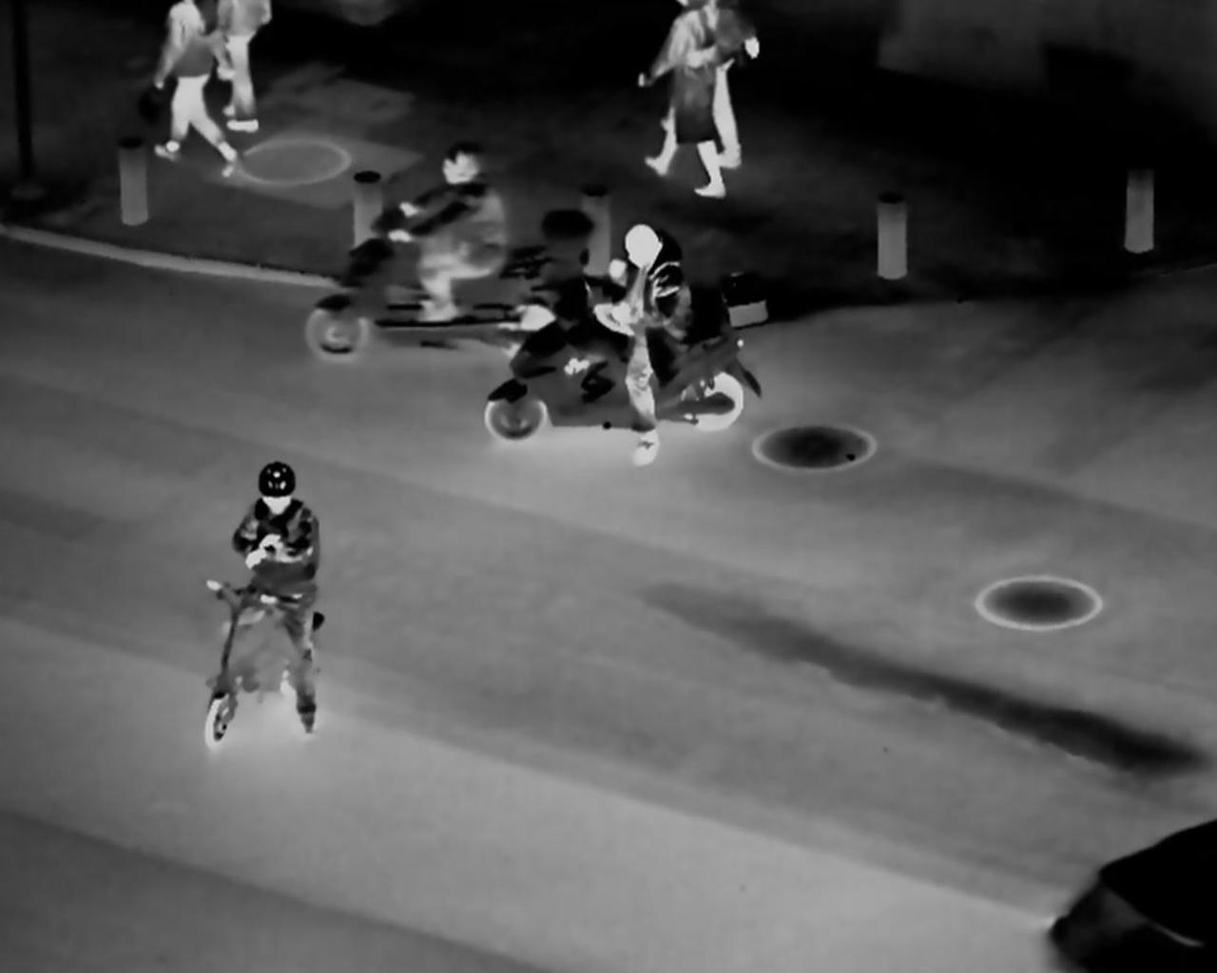person: (215, 459, 325, 742), (381, 135, 510, 327), (589, 218, 687, 467), (640, 4, 728, 200)
